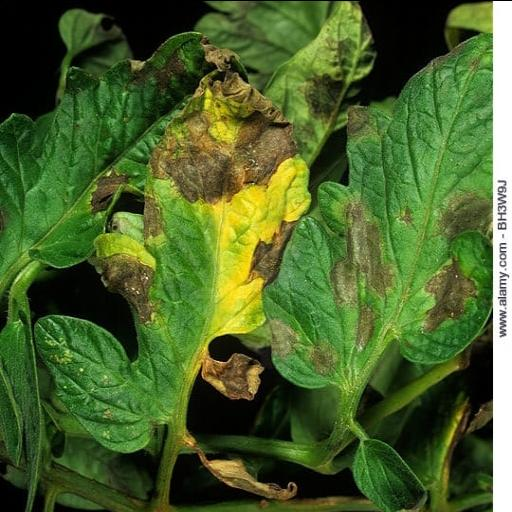Late Blight: (34, 43, 312, 452), (261, 34, 493, 390), (0, 31, 247, 268)
